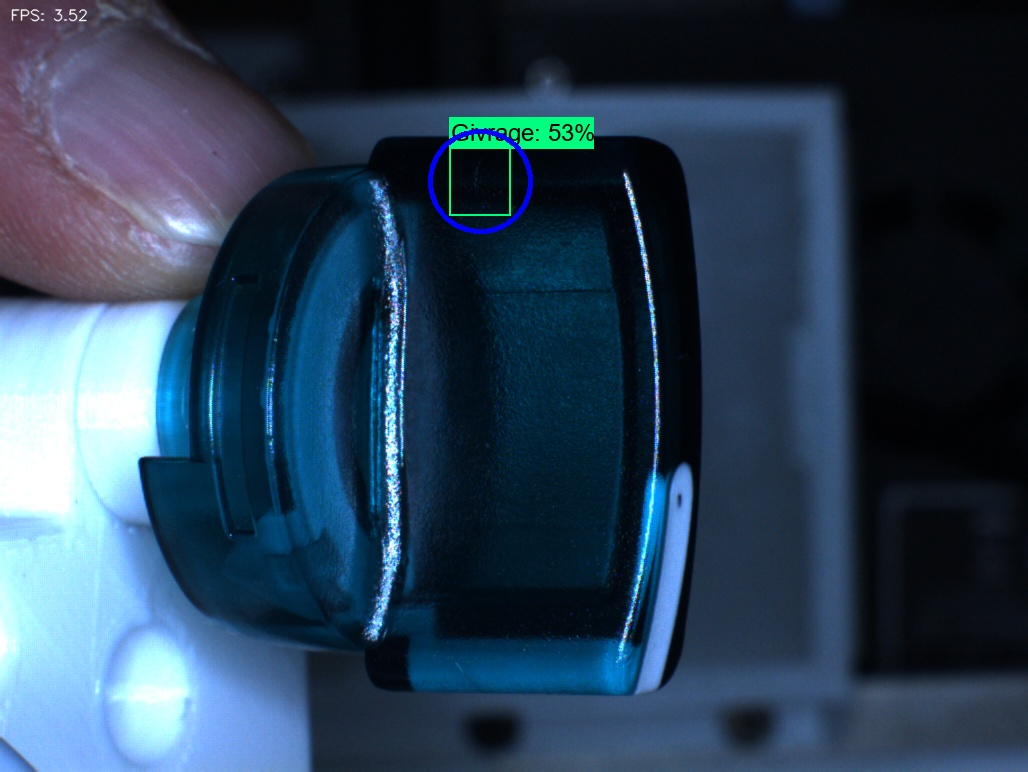PointNoir: (640, 447, 723, 549)
